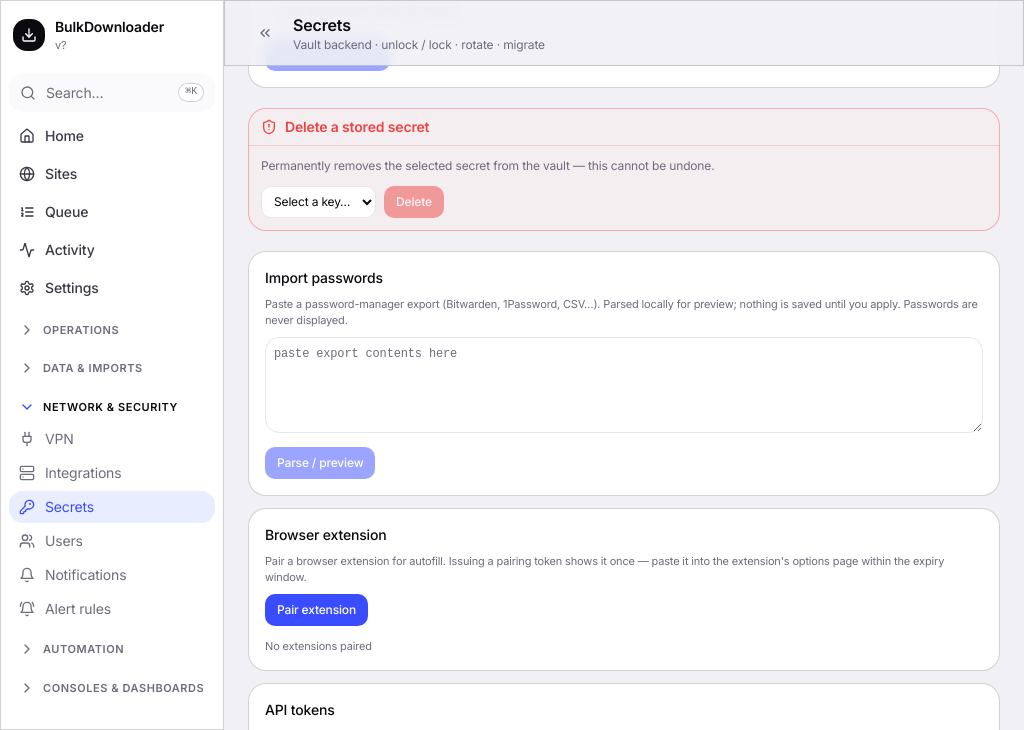
it: F12 — status-dependent actions wait for a status that was actually read › a poll that fails after an unlocked load disables both (the unlocked answer is stale)
The image size is (1024, 730).
(page scrolled)
Type "x,y,z" into the text box named "Password export contents" at (624, 384), box [265,336,983,432]
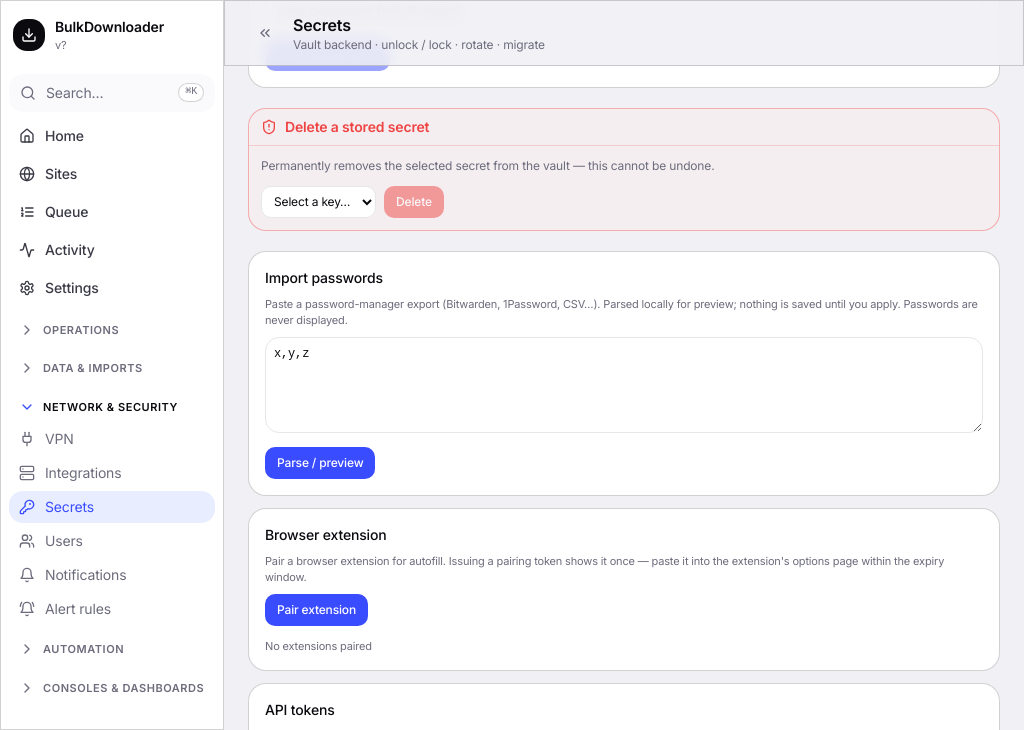
Click the button "Parse / preview" at (320, 462), box [265,446,375,478]
(page scrolled)
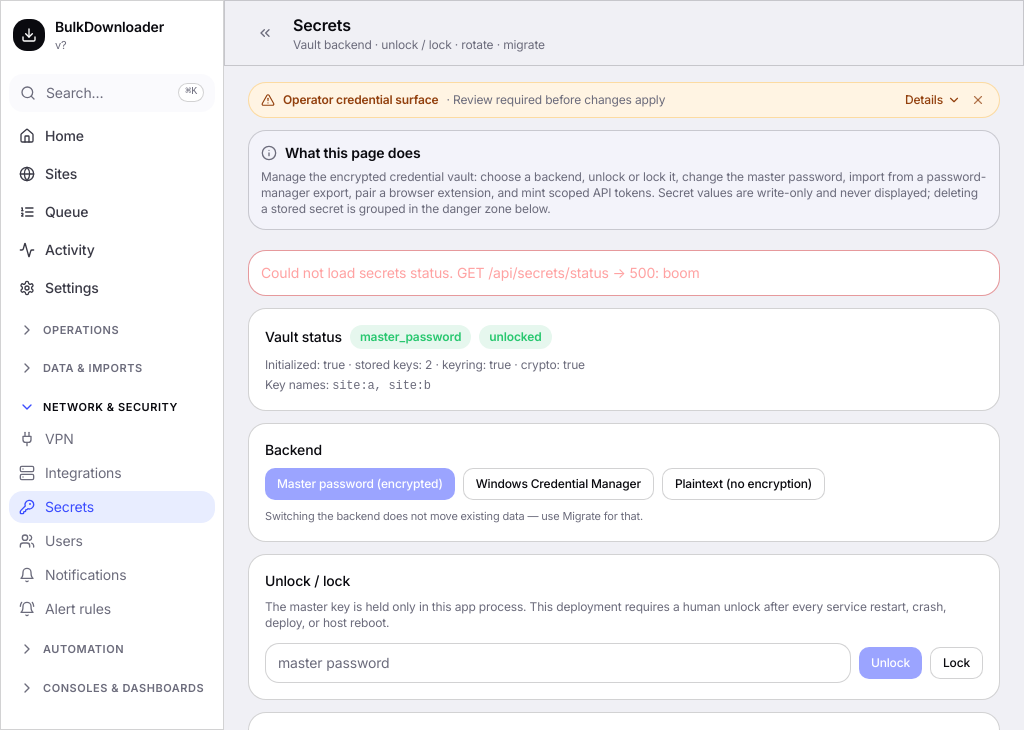
Expected: the text "Could not load secrets status" is shown, [261,264,457,281]
